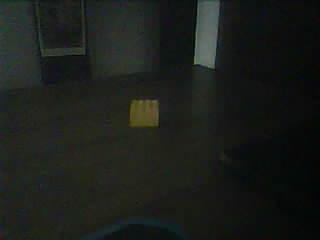lego: (129, 99, 160, 126)
